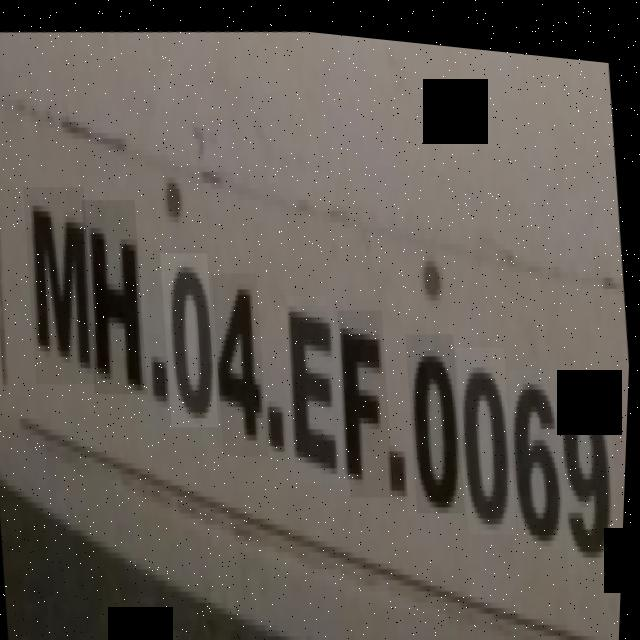0: (452, 332, 525, 527), (402, 320, 473, 507), (156, 244, 226, 427)
4: (207, 263, 277, 454)
6: (505, 353, 577, 541)
9: (553, 367, 631, 566)
E: (275, 284, 354, 482)
F: (334, 298, 403, 492)
H: (77, 192, 156, 395)
M: (18, 180, 105, 387)
